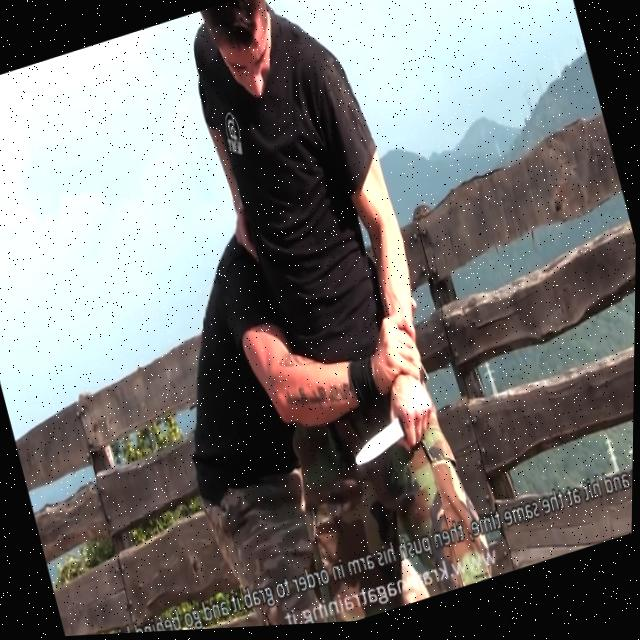knife: (344, 419, 413, 476)
